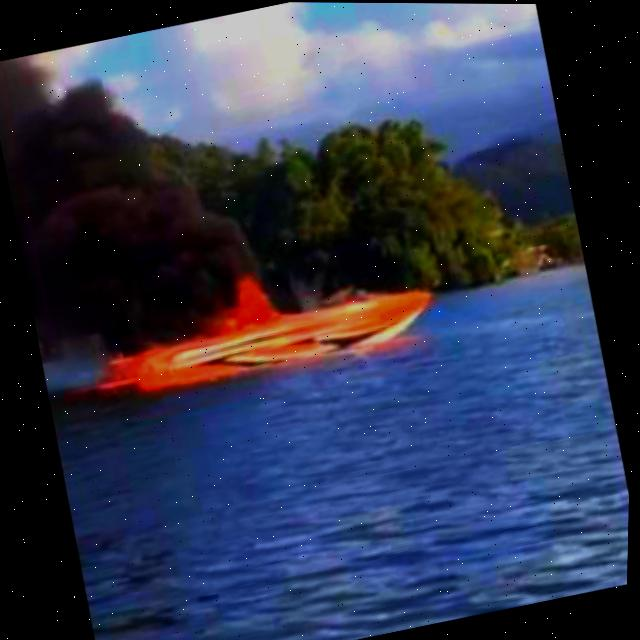Fire: (215, 268, 285, 338)
